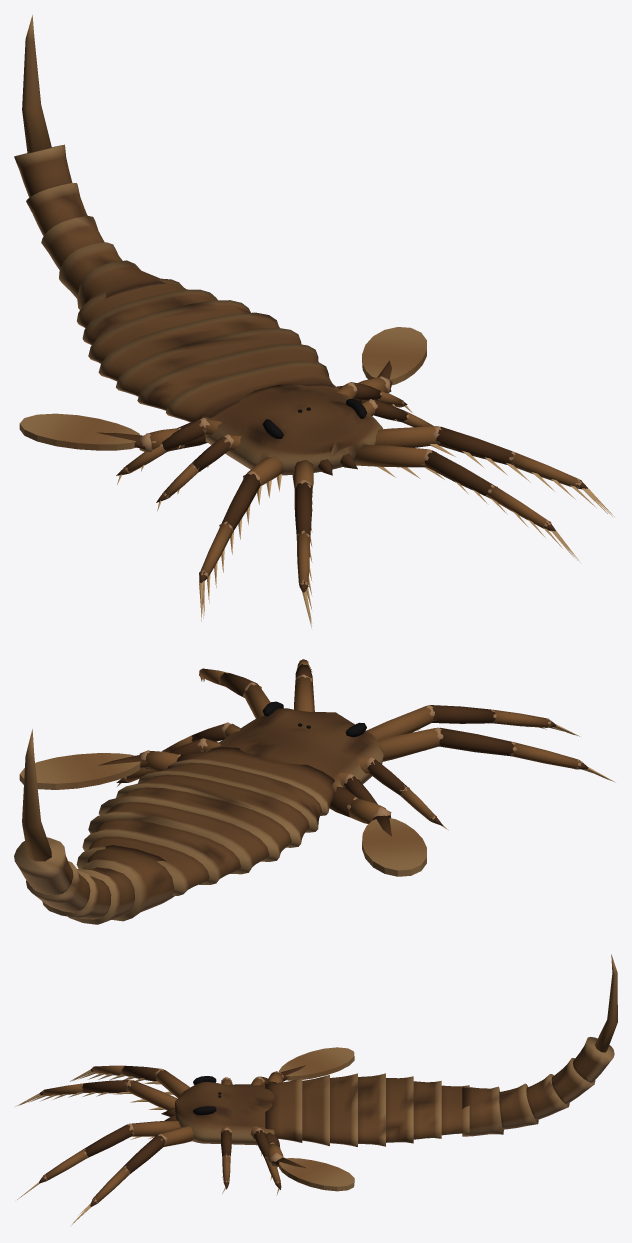
File: MixopterusKiaeri.fbx
3 renders of one model, top to bottom at view 1: azimuth 30°, elevation 25°; view 2: azimuth 150°, elevation 25°; view 3: azimuth 270°, elevation 25°, orthographic. The views are drawn at different scales.
Parts seen in each view (by area): view 1: MixopterusKiaeri; view 2: MixopterusKiaeri; view 3: MixopterusKiaeri.
Part boxes in pixels (box(x1,y1,x2,y2)): MixopterusKiaeri: box(14, 15, 614, 628); MixopterusKiaeri: box(14, 659, 615, 924); MixopterusKiaeri: box(15, 954, 617, 1225).
Size of the model in its own units: 0.9751 by 0.6287 by 1.7.
